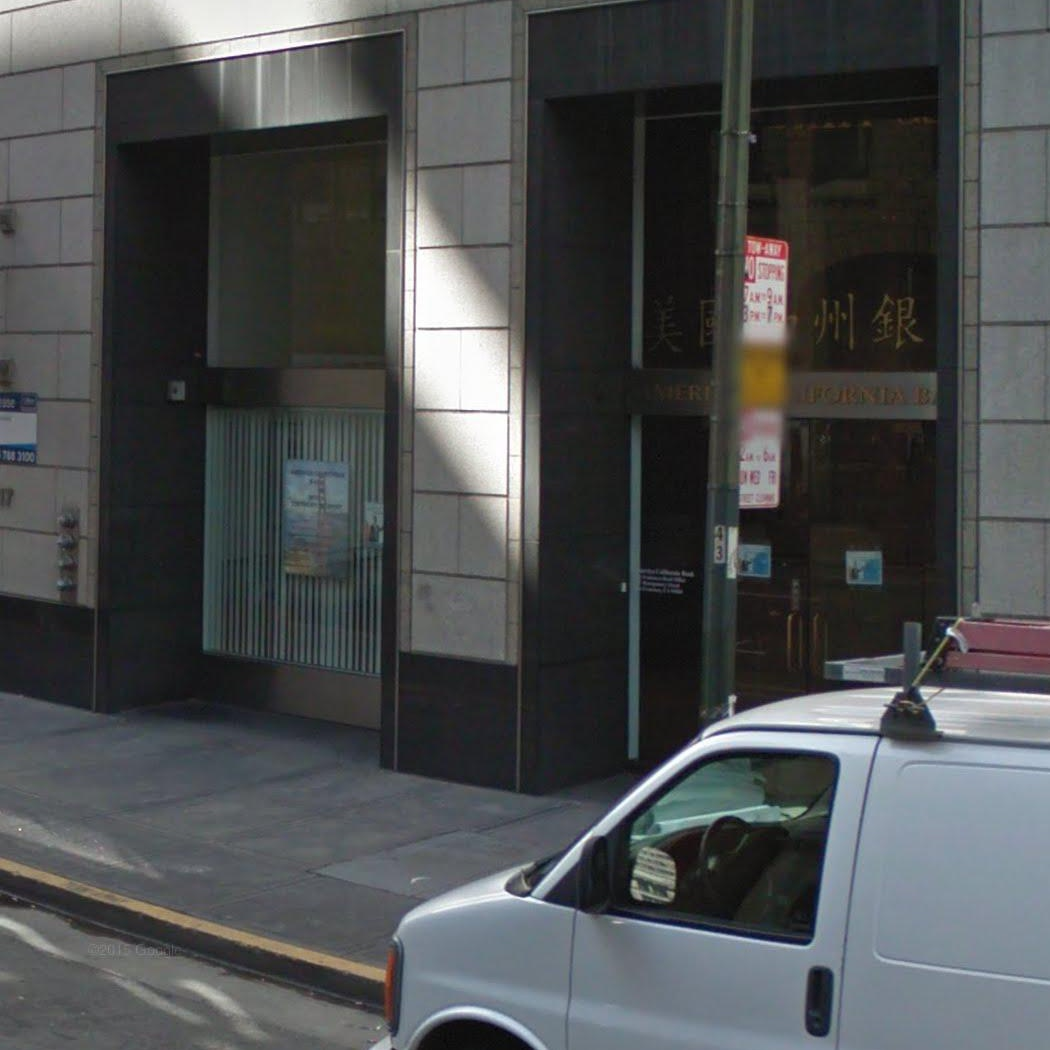No Parking: (735, 404, 784, 512)
